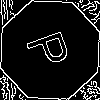P: (25, 25, 80, 72)
